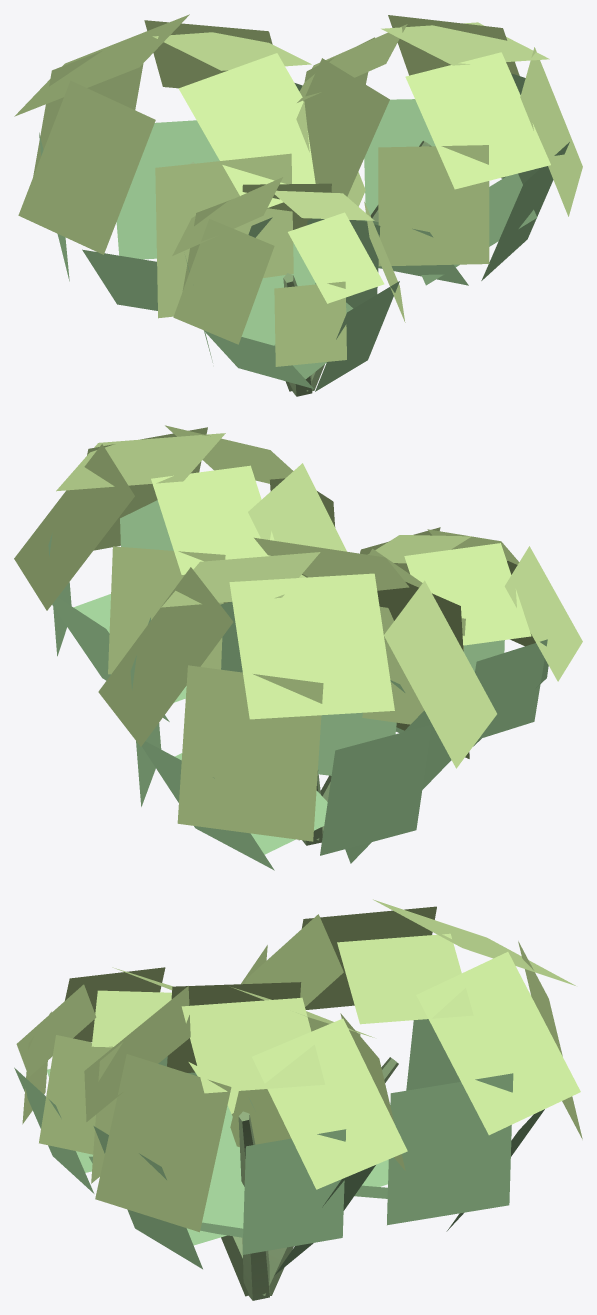
The model's file is plant_shrub_a.glb.
3 renders of one model, top to bottom at view 1: azimuth 30°, elevation 25°; view 2: azimuth 150°, elevation 25°; view 3: azimuth 270°, elevation 25°, orthographic. The views are drawn at different scales.
Visible parts, largest first — view 1: plant_shrub_a; view 2: plant_shrub_a; view 3: plant_shrub_a.
Boxes of the visible parts, left/top/right/bottom form: plant_shrub_a: left=14, top=14, right=582, bottom=396; plant_shrub_a: left=14, top=425, right=582, bottom=870; plant_shrub_a: left=14, top=899, right=582, bottom=1300.
Size of the model in its own units: 1.94 by 1.3 by 1.9.
